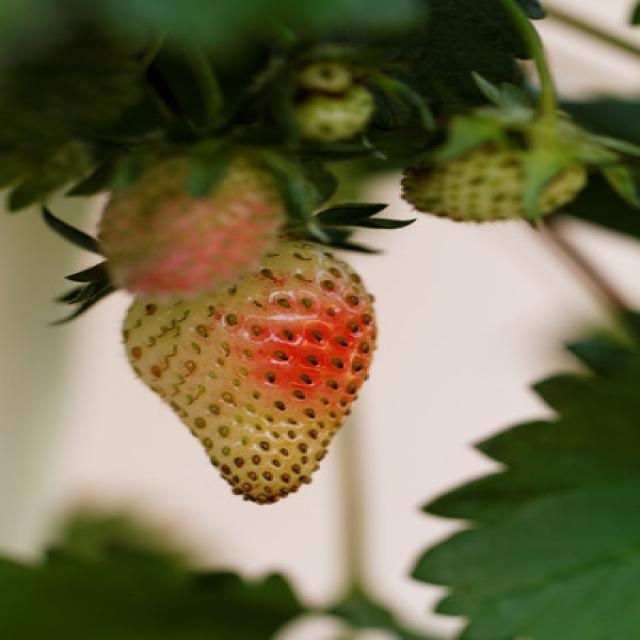unripe: (122, 242, 378, 504), (103, 146, 284, 290), (405, 111, 586, 221)
